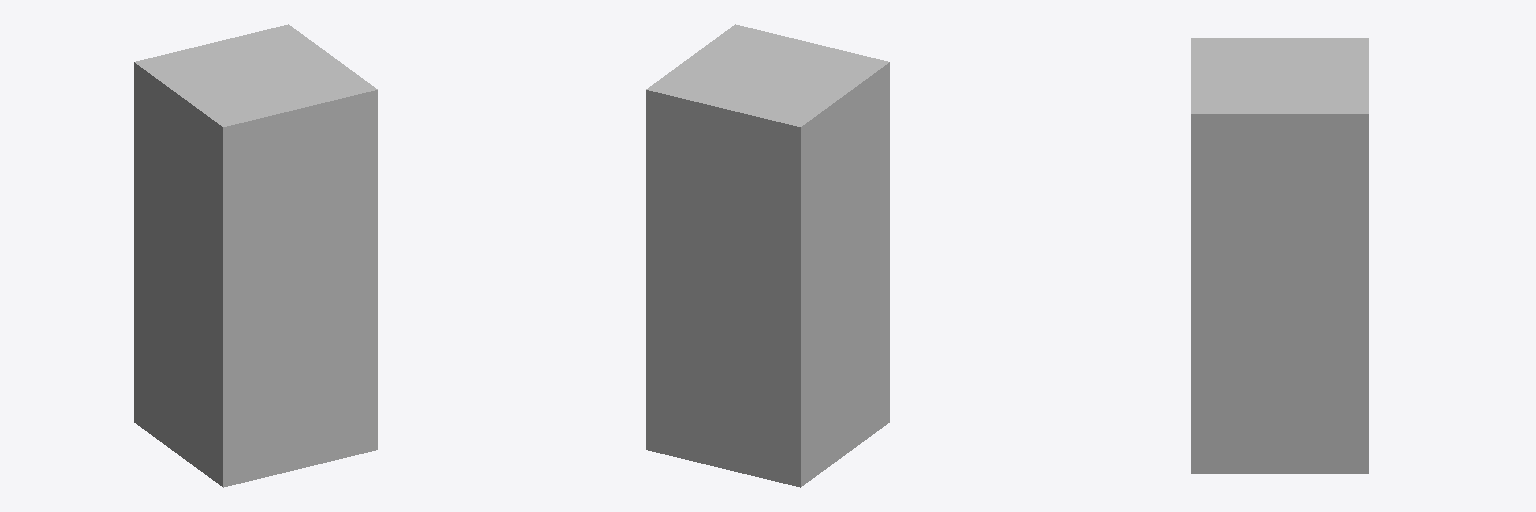
Rendered from tank.obj.
3 views of the same model, side by side, from view 1: azimuth 30°, elevation 25°; view 2: azimuth 150°, elevation 25°; view 3: azimuth 270°, elevation 25° (orthographic).
Parts seen in each view (by area): view 1: CubeFront, cube.000, cube.002_cube.019; view 2: CubeFront, cube.000, cube.002_cube.019; view 3: CubeFront, cube.000, cube.002_cube.019.
Part boxes in pixels (bbox=[...]): CubeFront: bbox=[134, 83, 377, 470]; cube.000: bbox=[134, 24, 377, 147]; cube.002_cube.019: bbox=[134, 402, 377, 487]; CubeFront: bbox=[646, 83, 889, 470]; cube.000: bbox=[646, 24, 889, 147]; cube.002_cube.019: bbox=[646, 404, 889, 487]; CubeFront: bbox=[1191, 134, 1368, 457]; cube.000: bbox=[1191, 38, 1368, 133]; cube.002_cube.019: bbox=[1191, 454, 1368, 473].
Bounding box in the file's own units: 0.5 × 1.11 × 0.5.